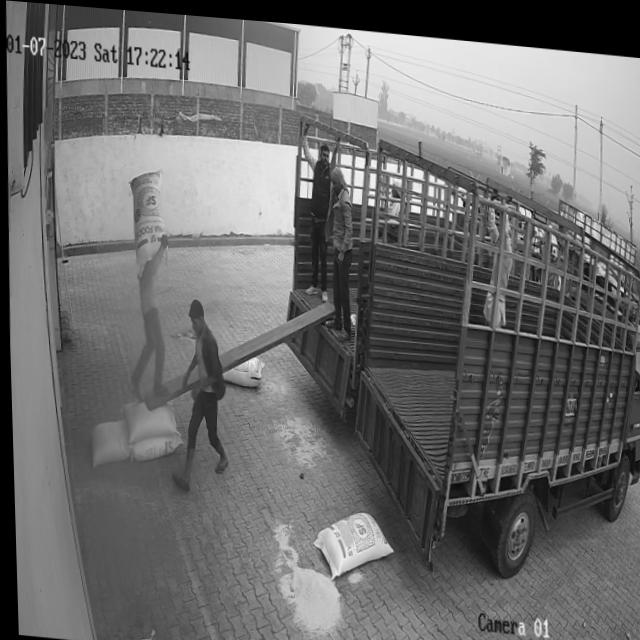sack: (308, 501, 391, 578), (127, 164, 164, 276), (124, 397, 174, 444), (87, 415, 127, 467), (128, 428, 179, 461), (219, 347, 263, 385)
